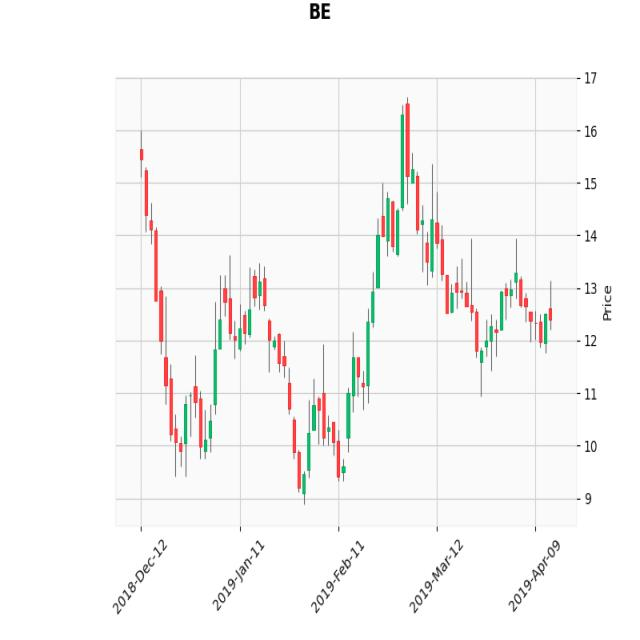Double-Bottom: (150, 302, 230, 470), (277, 362, 363, 497)
Head-Shoulders: (356, 96, 464, 334)
